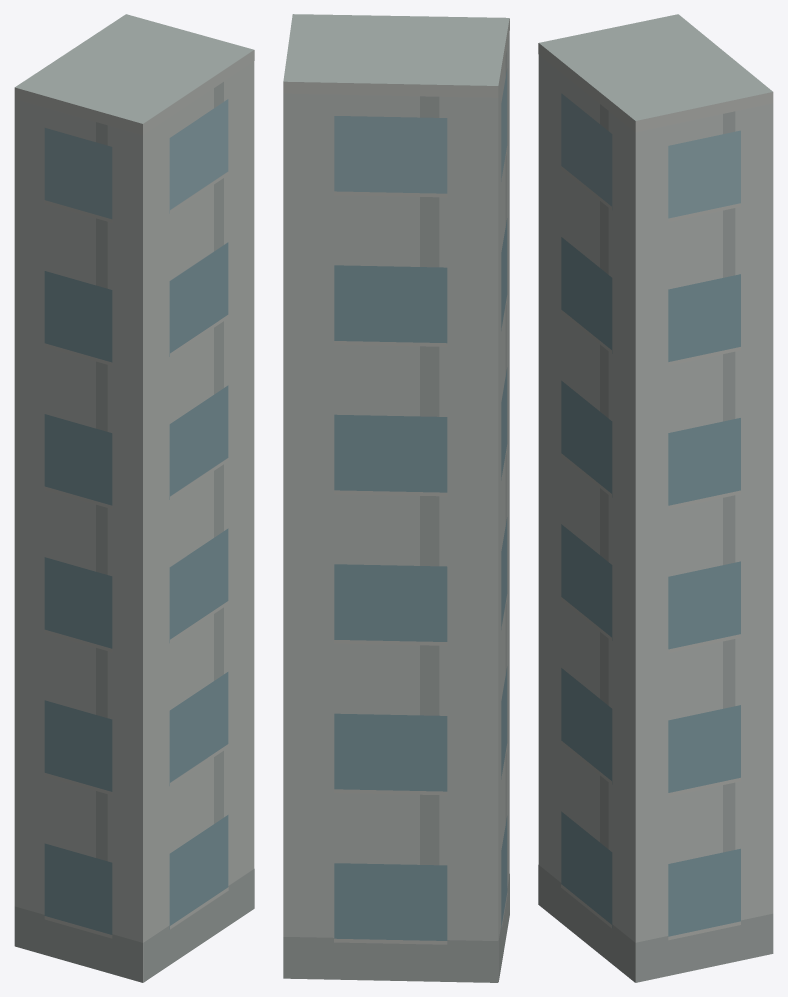
File: survey-upis-32831066.glb
3 views of the same model, side by side, from view 1: azimuth 30°, elevation 25°; view 2: azimuth 150°, elevation 25°; view 3: azimuth 270°, elevation 25° (orthographic). The views are drawn at different scales.
Visible parts, largest first — view 1: survey-upis-32831066.tmp; view 2: survey-upis-32831066.tmp; view 3: survey-upis-32831066.tmp.
Boxes of the visible parts, <box> form: survey-upis-32831066.tmp: <box>14,14,254,982</box>; survey-upis-32831066.tmp: <box>283,14,509,982</box>; survey-upis-32831066.tmp: <box>538,14,773,982</box>.
Size of the model in its own units: 4.88 by 18.3 by 4.52.
